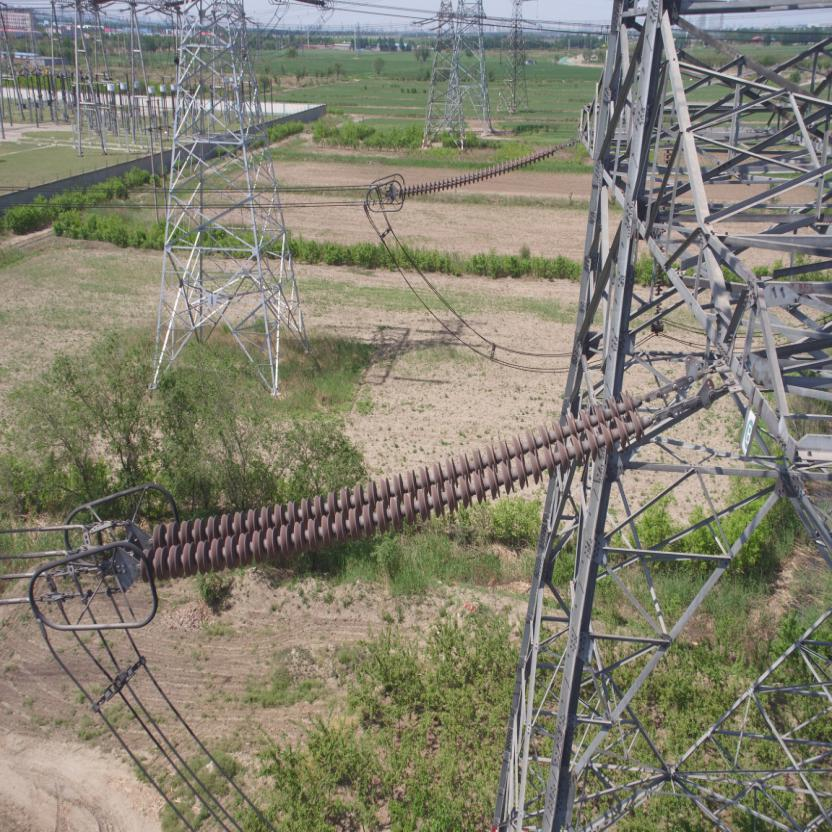insulator: (129, 382, 678, 586), (396, 133, 578, 200)
